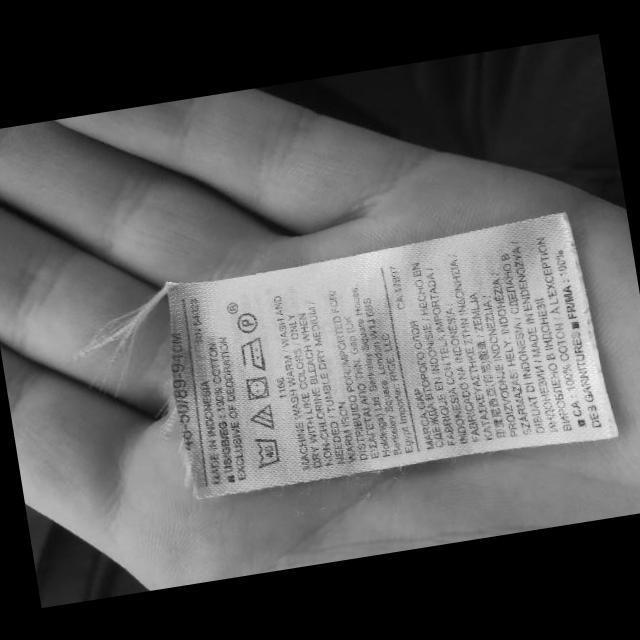40C: (252, 434, 284, 470)
iron_medium: (237, 334, 268, 374)
non_chlorine_bleach: (246, 400, 276, 434)
normal_dry_clean_solvents: (236, 310, 260, 336)
tumble_dry_medium: (244, 373, 274, 402)
